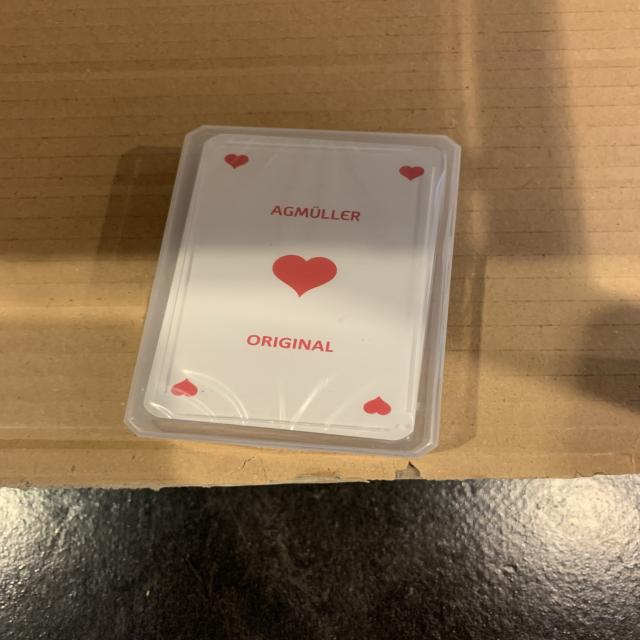Jasskarte: (125, 126, 460, 456)
